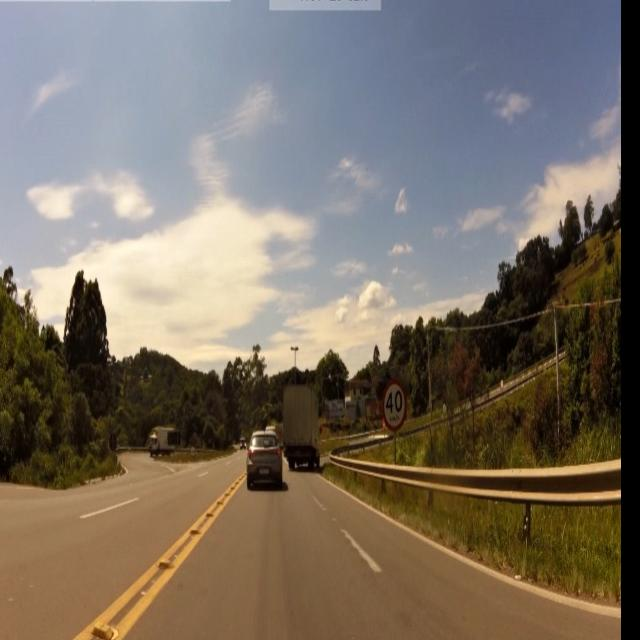R-19: (382, 378, 406, 439)
